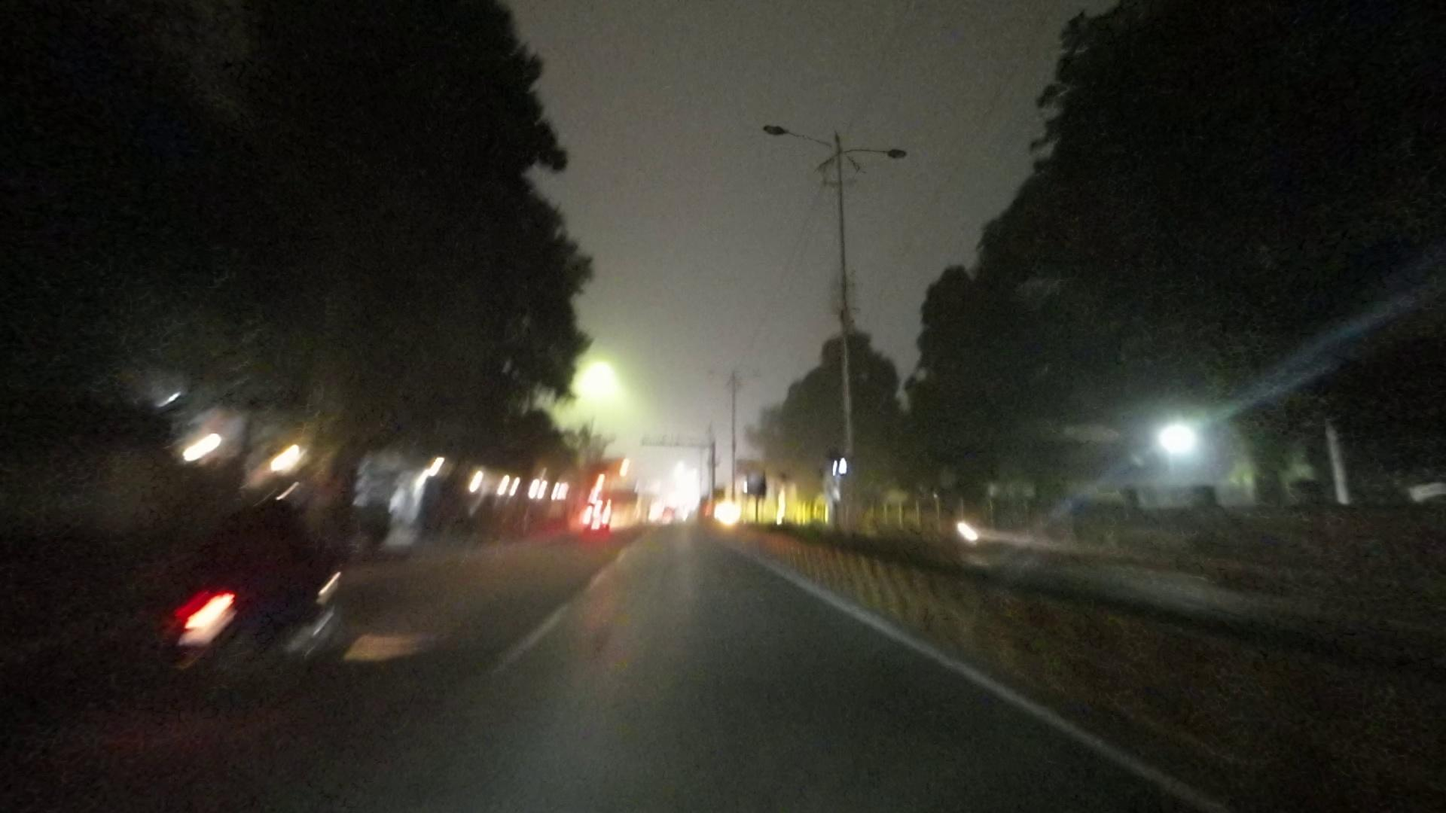streetlight: (761, 123, 831, 150), (850, 144, 909, 163)
